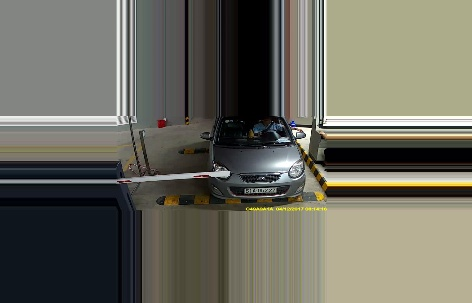plate: (243, 184, 277, 196)
